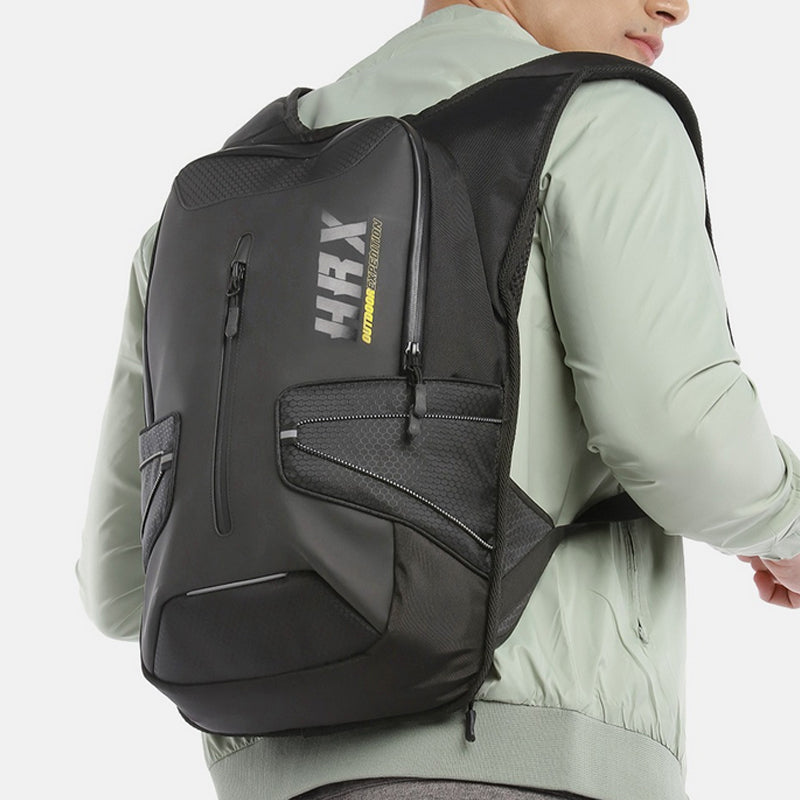backpack: (129, 52, 713, 740)
